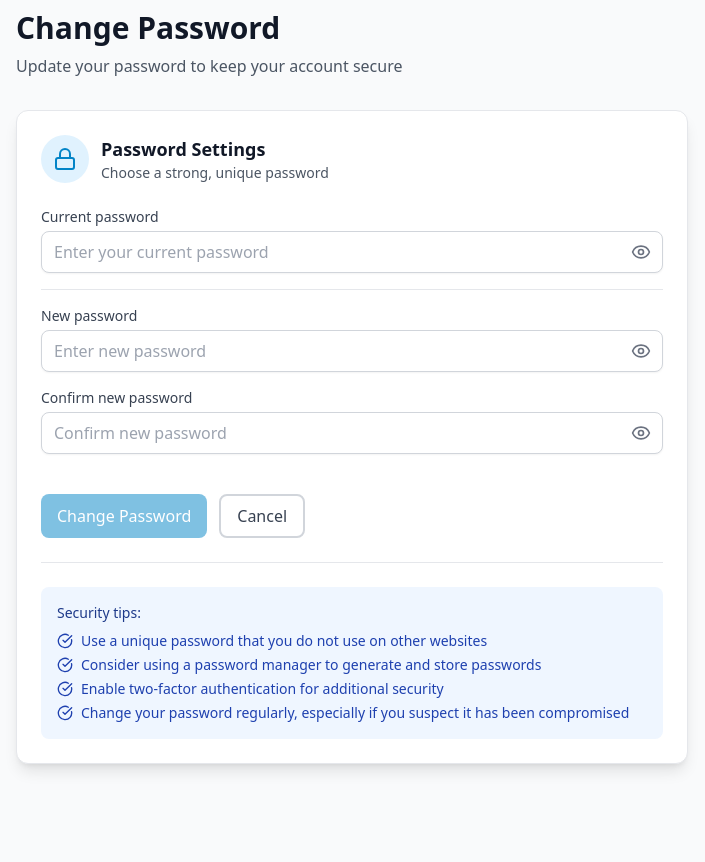
Test: ChangePasswordPage › should successfully change password with valid input
Type "OldPassword123!" into the password field labelled "Current password".
click(352, 252); type("OldPassword123!")  # box [41,231,663,273]
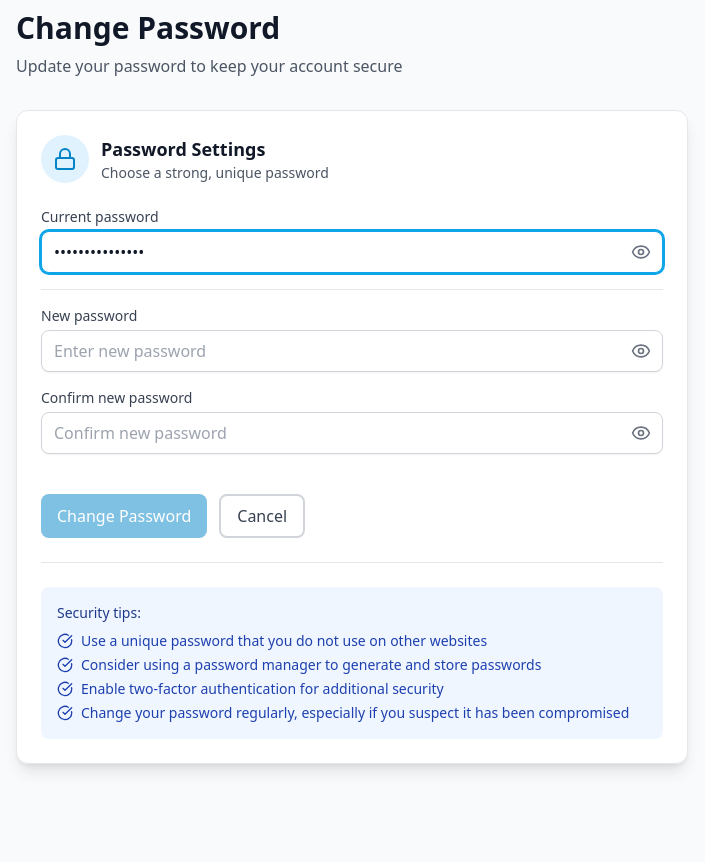
Type "NewPassword123!" into the password field labelled "New password".
click(352, 351); type("NewPassword123!")  # box [41,330,663,372]
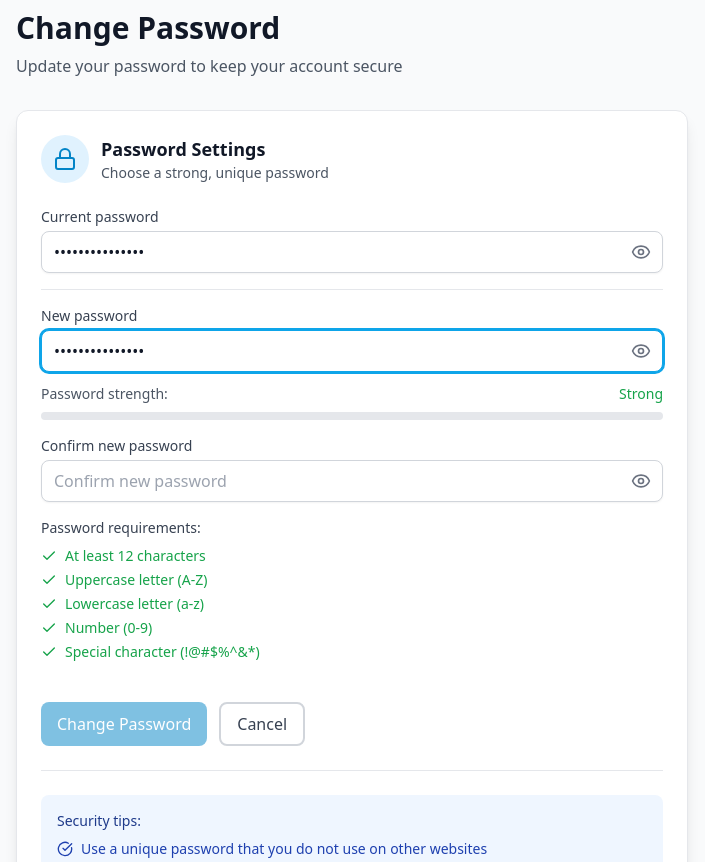
Type "NewPassword123!" into the password field labelled "Confirm new password".
click(352, 481); type("NewPassword123!")  # box [41,460,663,502]
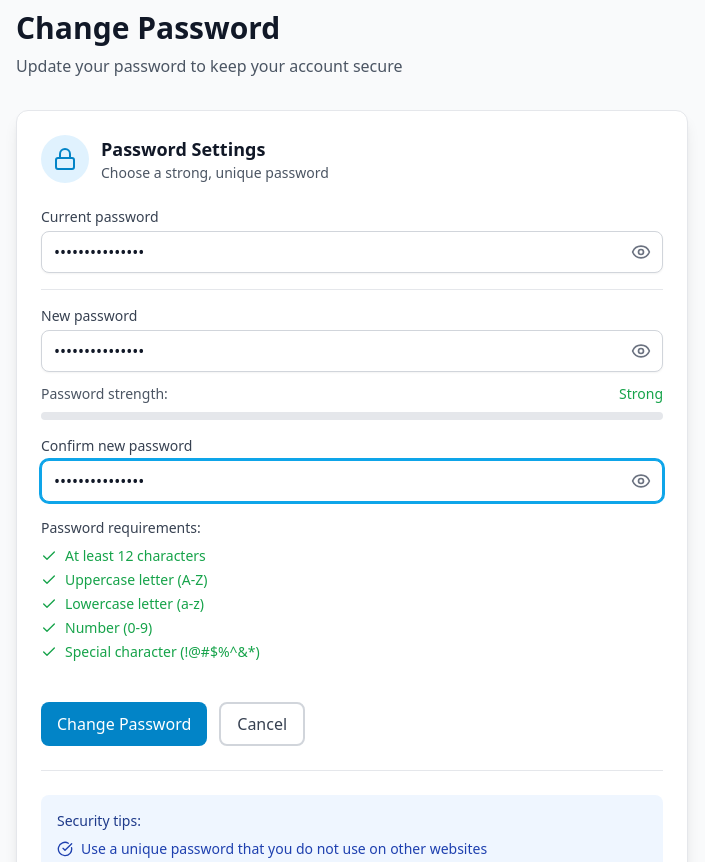
Click the button "Change Password".
click(124, 724)  # box [41,702,207,746]
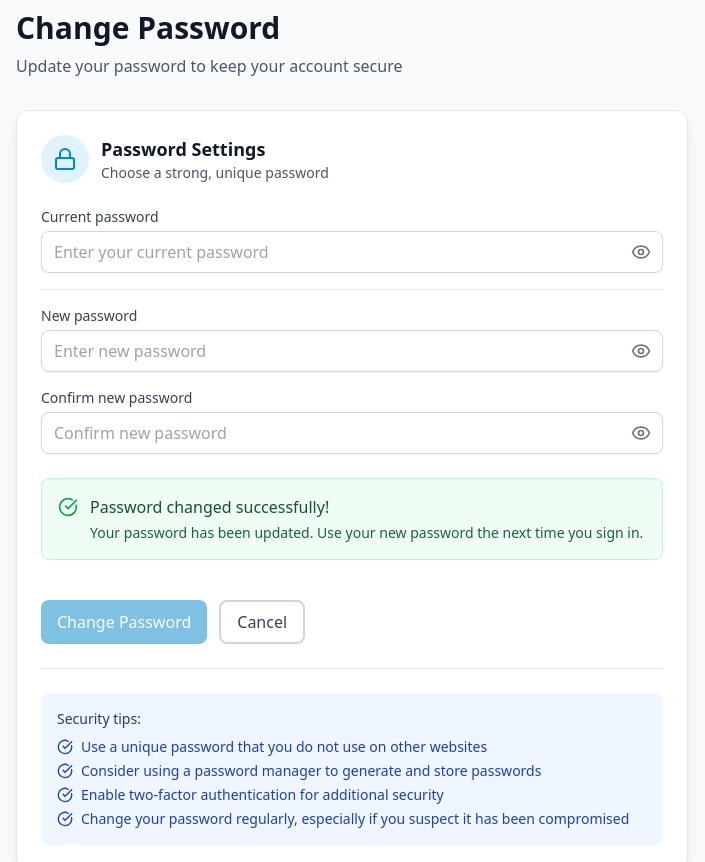
Check: the text "Password changed successfully!" is shown, box [90,496,329,518]
